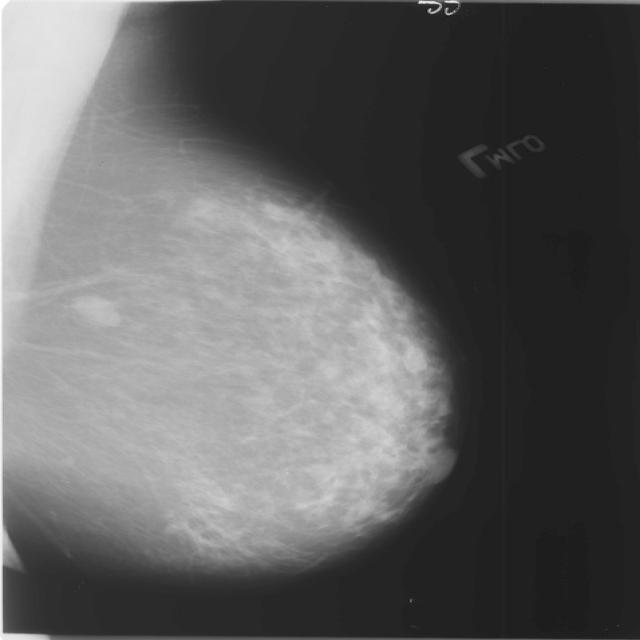tumour: (72, 294, 122, 328)
